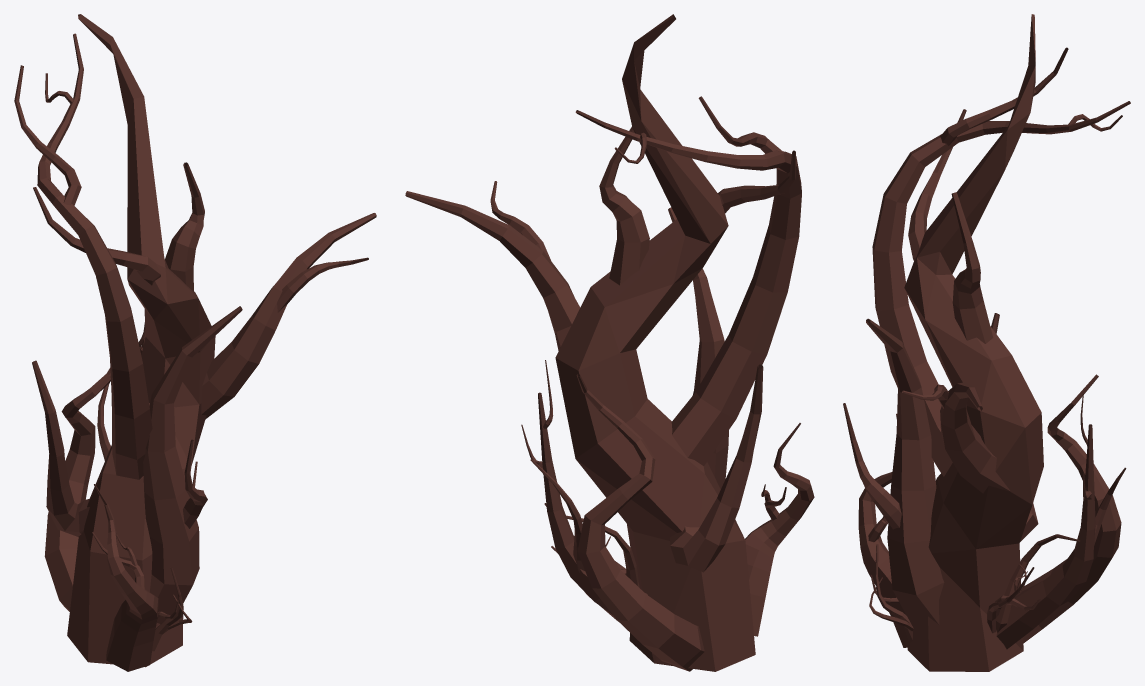
File: large-tree_3.fbx
The picture shows the model from 3 angles, left to right: view 1: azimuth 30°, elevation 25°; view 2: azimuth 150°, elevation 25°; view 3: azimuth 270°, elevation 25°; orthographic projection. The views are drawn at different scales.
Visible parts, largest first — view 1: LargeTree3_LOD0; view 2: LargeTree3_LOD0; view 3: LargeTree3_LOD0.
Boxes of the visible parts, <box> form: LargeTree3_LOD0: <box>14,14,376,671</box>; LargeTree3_LOD0: <box>405,14,814,671</box>; LargeTree3_LOD0: <box>843,14,1130,671</box>.
Size of what is drawn, in the model's own units: 12.18 by 20.58 by 8.37.
